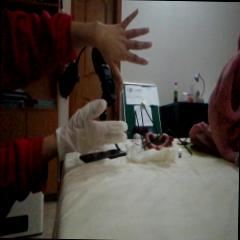gloved: (57, 97, 128, 151)
not-gloved: (82, 6, 152, 92)
